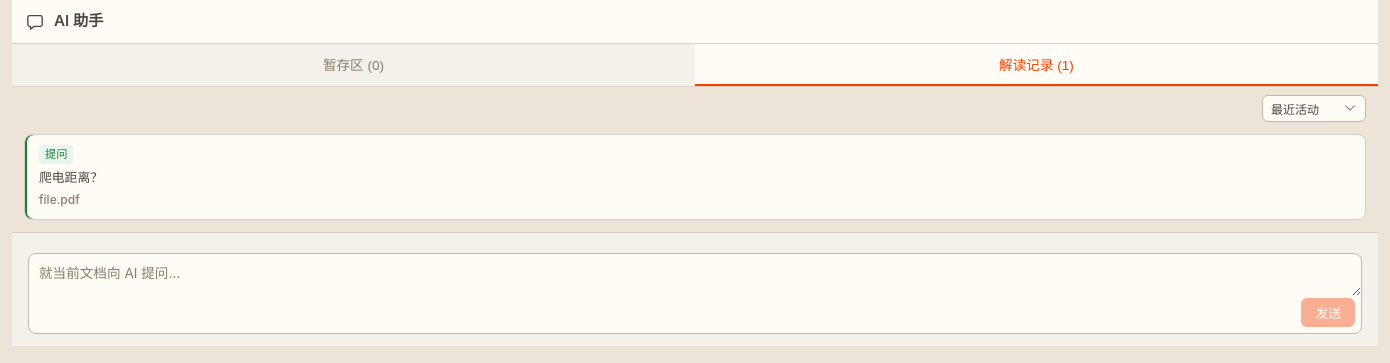
AiChatPanel › free question（无选区自由提问） › submits the question and enters the new session chatbox
Type "爬电距离的要求？" into the text box with placeholder "就当前文档向 AI 提问…" at (695, 275), box 29,254 -> 1361,296
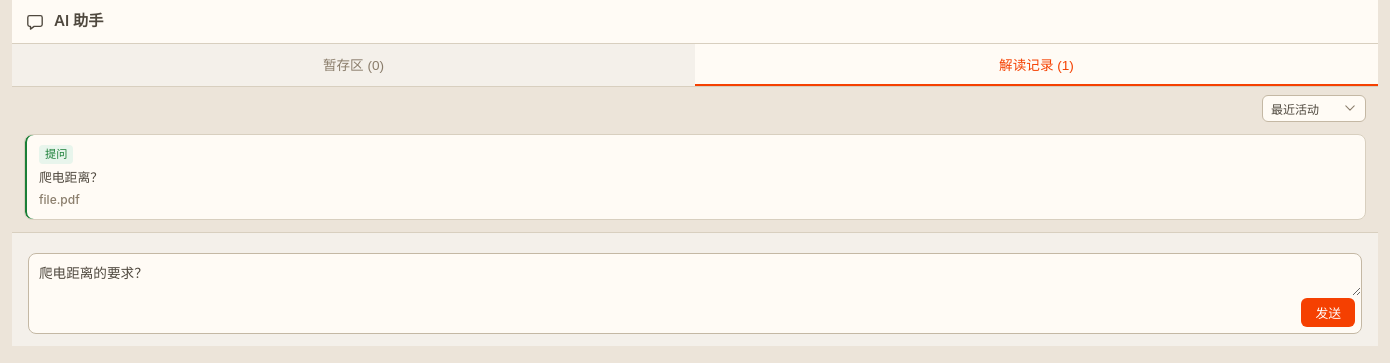
Press Enter in the text box with placeholder "就当前文档向 AI 提问…", box 29,254 -> 1361,296
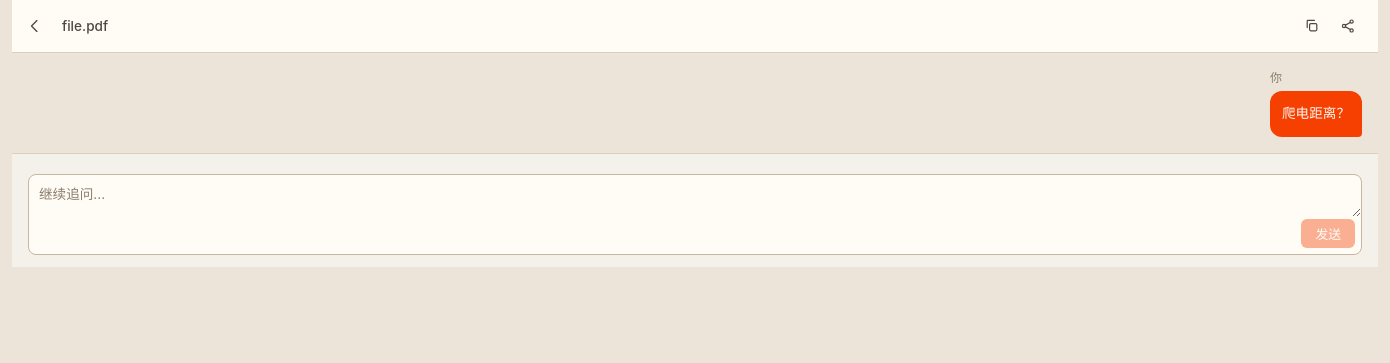
Now the button named "返回解读记录" is shown, box 20,10 -> 52,42
